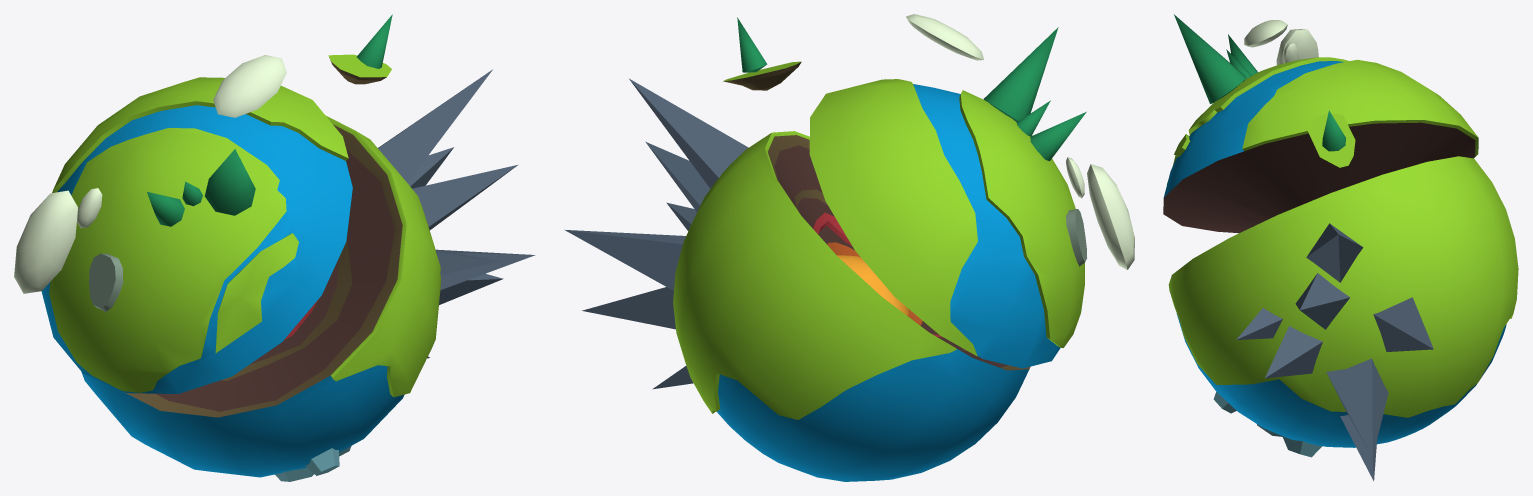
The model's file is Explosive_Planet_Earth_Core_Spikes.fbx.
3 renders of one model, left to right at view 1: azimuth 30°, elevation 25°; view 2: azimuth 150°, elevation 25°; view 3: azimuth 270°, elevation 25°, orthographic. The views are drawn at different scales.
Visible parts, largest first — view 1: Planet_EarthCoreSpikes_Mesh; view 2: Planet_EarthCoreSpikes_Mesh; view 3: Planet_EarthCoreSpikes_Mesh.
Boxes of the visible parts, left/top/right/bottom form: Planet_EarthCoreSpikes_Mesh: left=14, top=14, right=535, bottom=481; Planet_EarthCoreSpikes_Mesh: left=564, top=14, right=1134, bottom=481; Planet_EarthCoreSpikes_Mesh: left=1163, top=14, right=1518, bottom=481.
Bounding box in the file's own units: 7.03 × 5.57 × 4.51.
